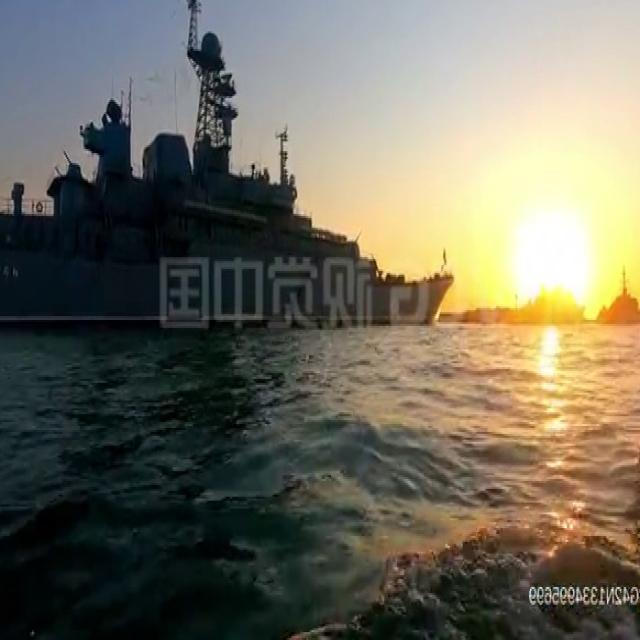navalvessels: (0, 18, 451, 338), (593, 261, 640, 322)
